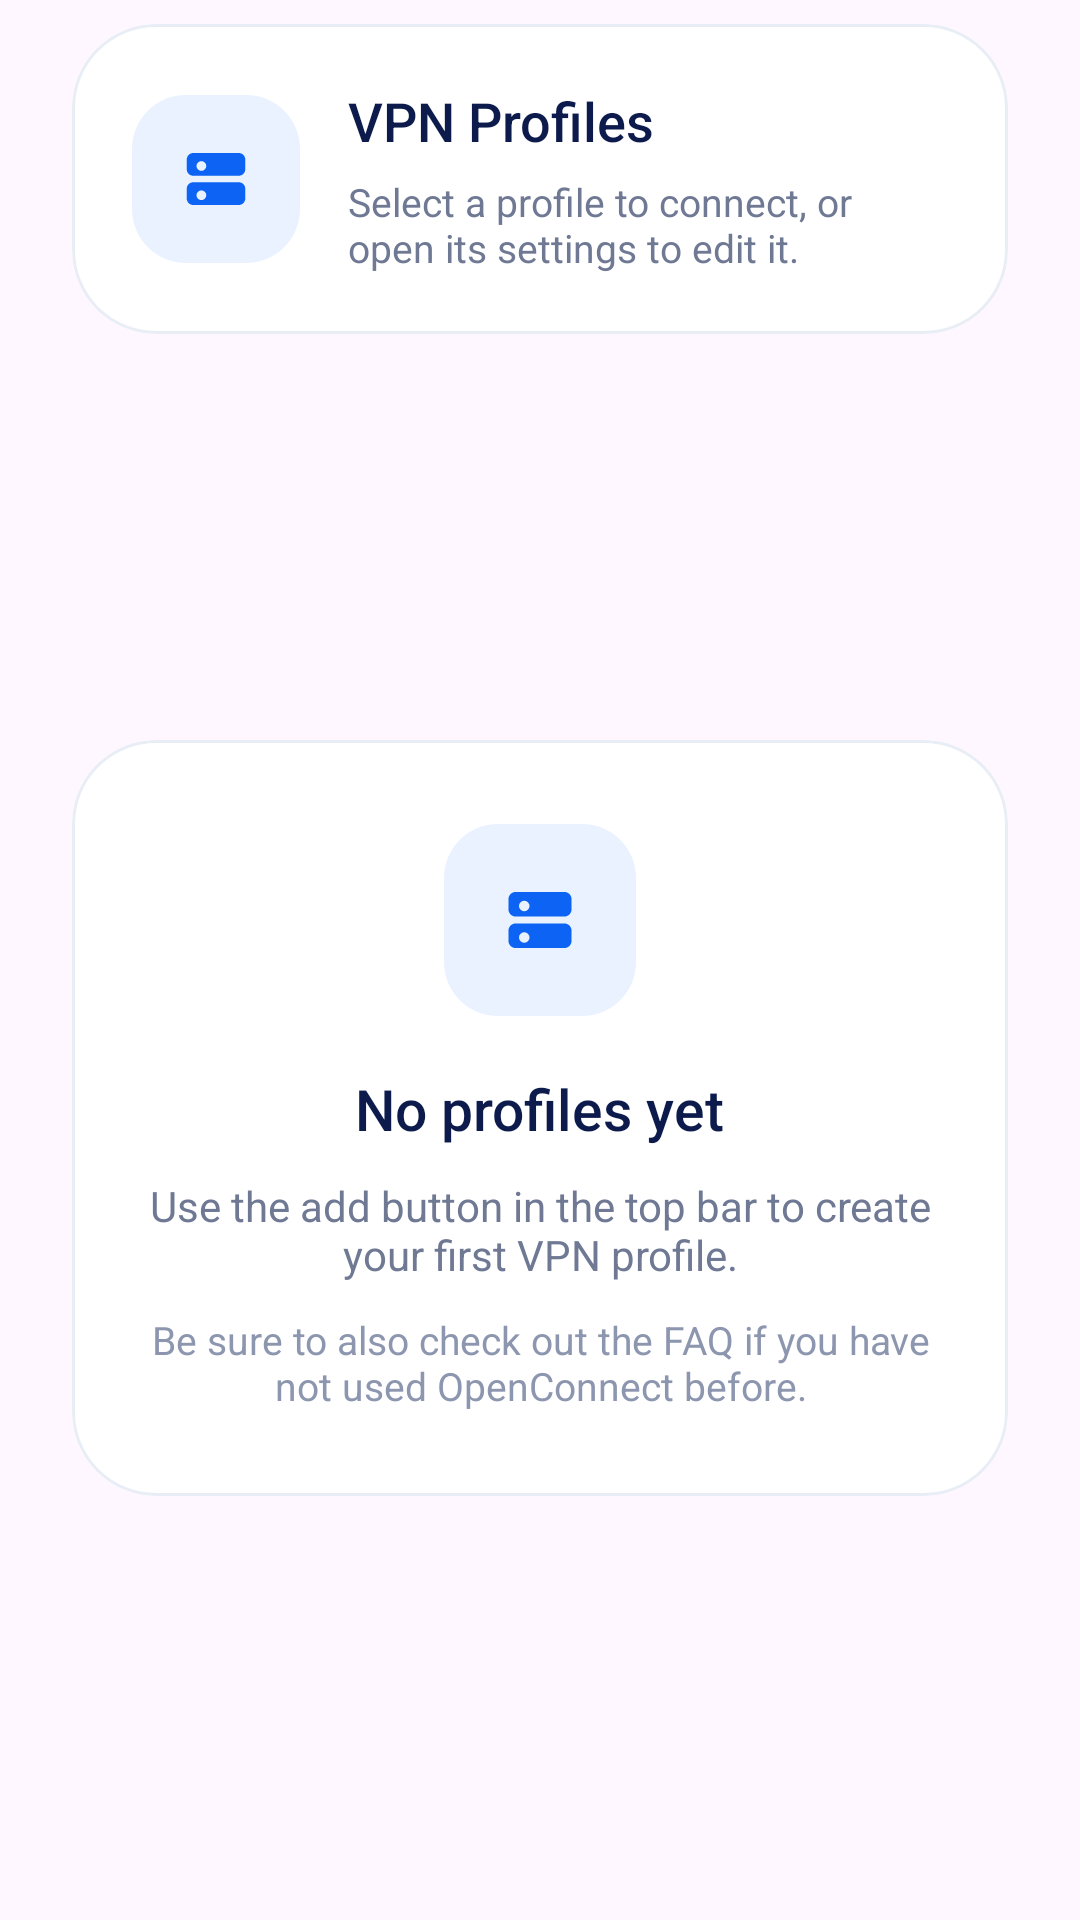

Icons on this 1080px×1920px Android screen, each with the point to tap as (x=x, y=y):
oc profiles: (x=216, y=179), (x=540, y=920)
